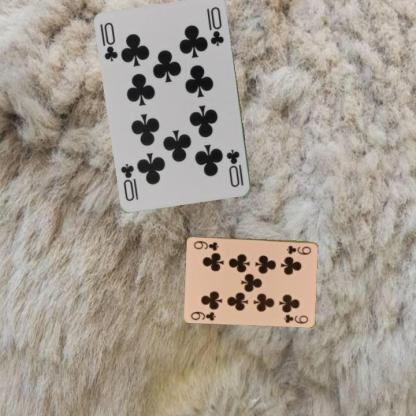10c: (224, 147, 246, 189), (102, 20, 119, 63)
9c: (284, 242, 313, 257), (188, 308, 218, 322)
